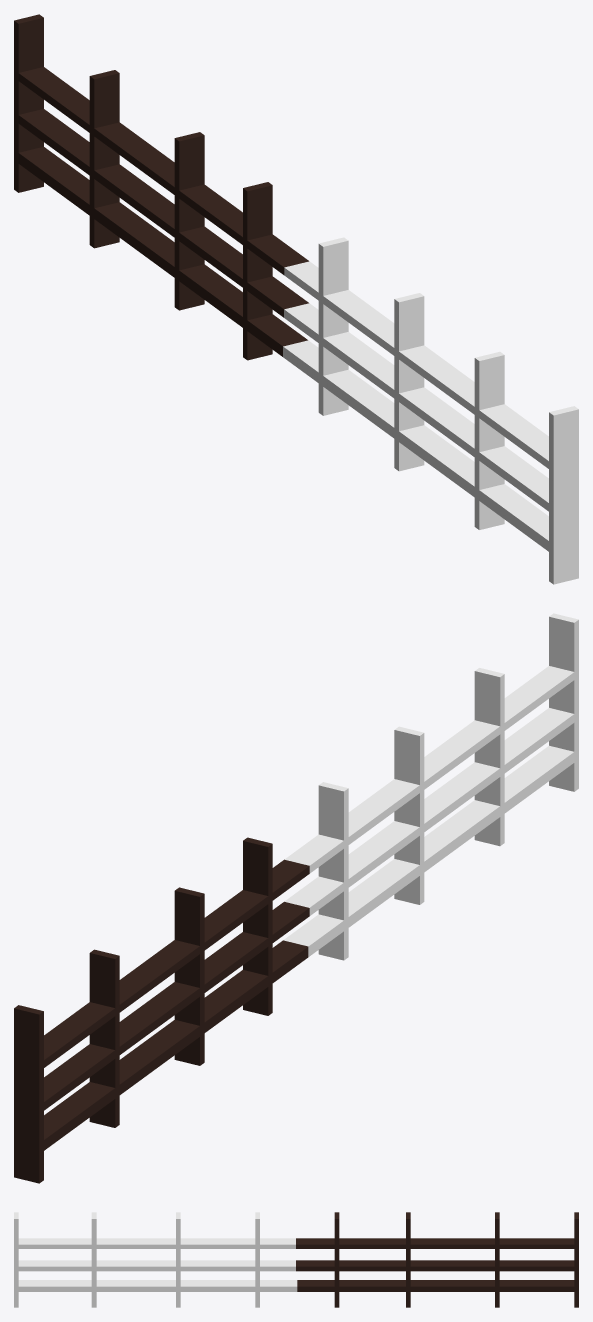
File: plane.014_lev3.glb
3 views of the same model, one above another, from view 1: azimuth 30°, elevation 25°; view 2: azimuth 150°, elevation 25°; view 3: azimuth 270°, elevation 25° (orthographic). The views are drawn at different scales.
Parts seen in each view (by area): view 1: plane.014_lev3; view 2: plane.014_lev3; view 3: plane.014_lev3.
Boxes of the visible parts, x1,y1,x2,y2 form: plane.014_lev3: [14, 14, 578, 584]; plane.014_lev3: [14, 613, 578, 1183]; plane.014_lev3: [14, 1212, 578, 1307].
Bounding box in the file's own units: 0.0612 × 0.3895 × 2.25.
